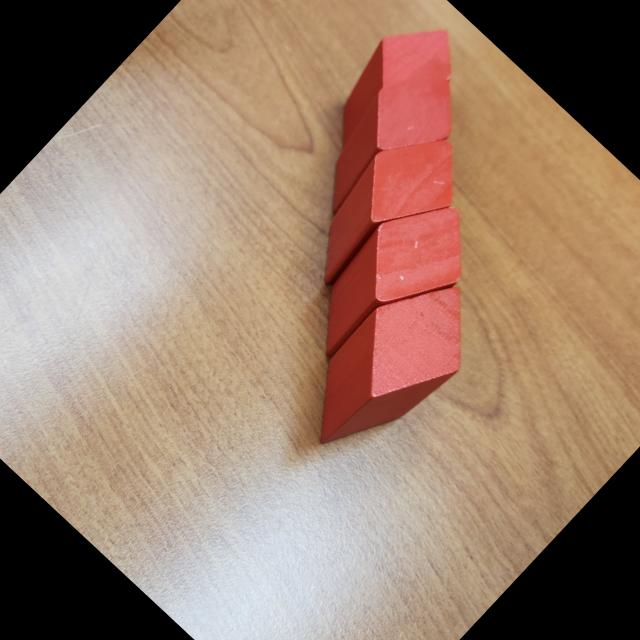red: (283, 253, 502, 478), (288, 178, 494, 388), (289, 112, 481, 308), (296, 51, 476, 236), (306, 2, 472, 172)
